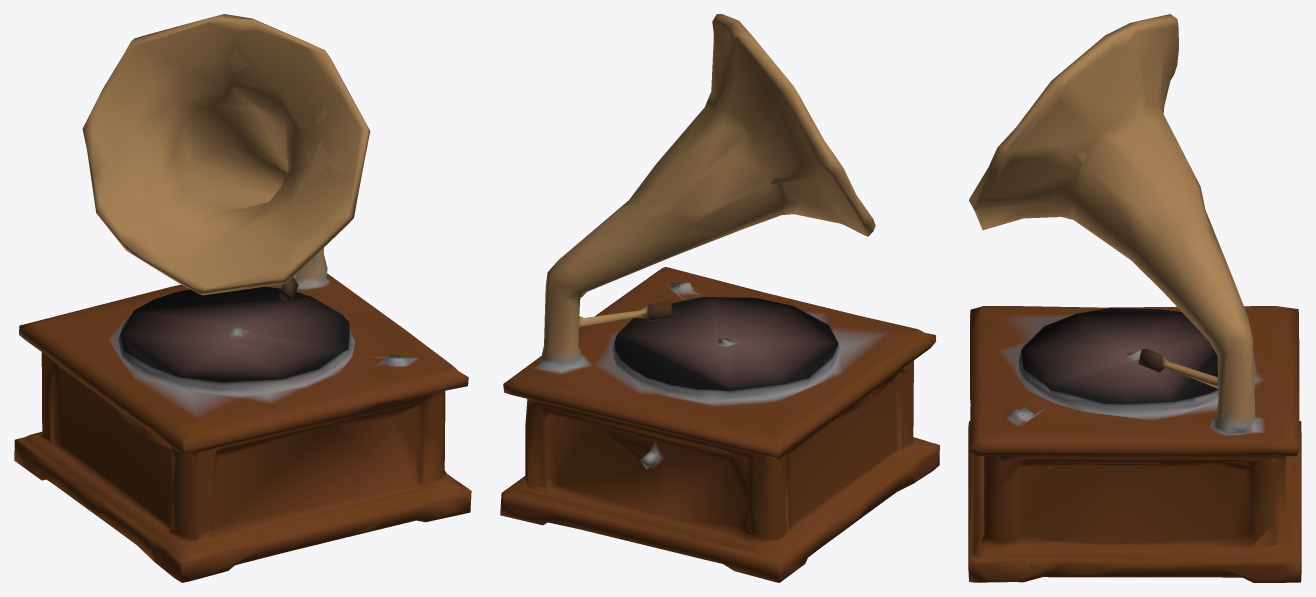
File: gen3d-gramophone-lod0.glb
3 views of the same model, side by side, from view 1: azimuth 30°, elevation 25°; view 2: azimuth 150°, elevation 25°; view 3: azimuth 270°, elevation 25° (orthographic). The views are drawn at different scales.
Visible parts, largest first — view 1: part_0; view 2: part_0; view 3: part_0.
Boxes of the visible parts, <box> form: part_0: <box>14,14,471,582</box>; part_0: <box>500,14,939,582</box>; part_0: <box>968,14,1301,582</box>.
Bounding box in the file's own units: 0.6752 × 1.03 × 0.6576.
